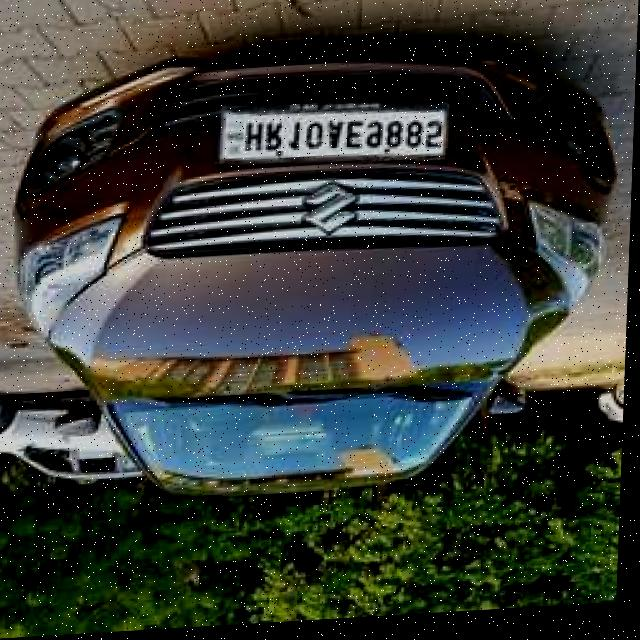plate: (216, 95, 454, 178)
